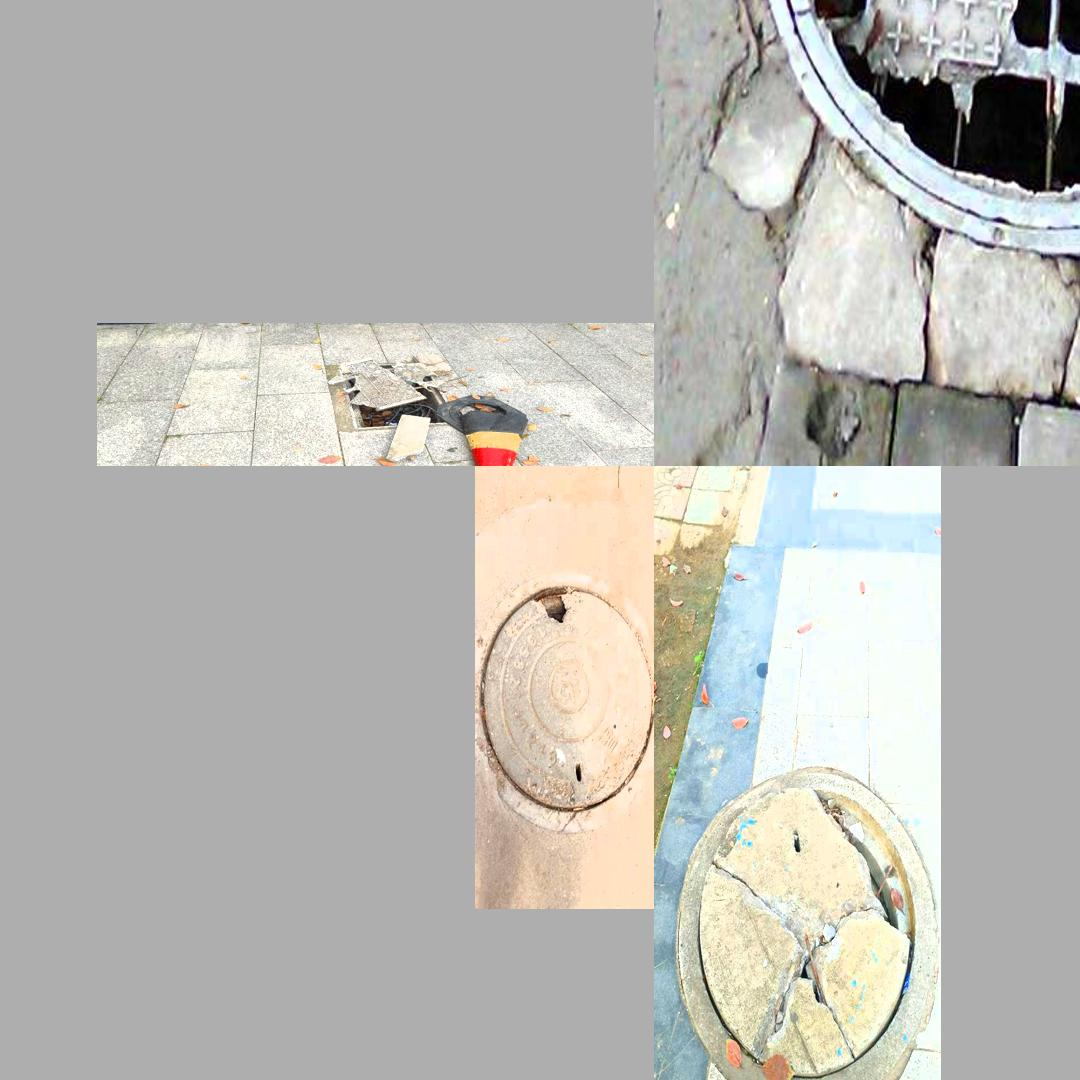broke: (731, 0, 1080, 355), (672, 759, 939, 1080), (477, 565, 652, 830), (340, 352, 454, 429)
